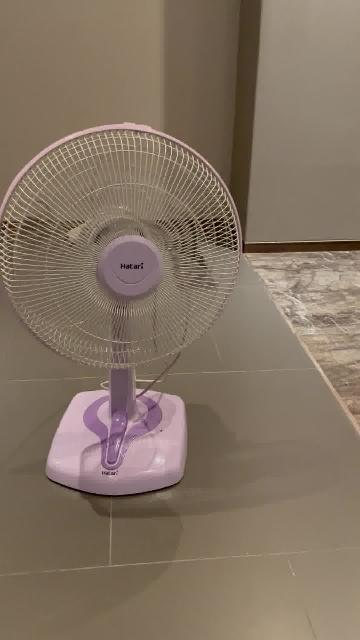Fan: (0, 123, 244, 498)
